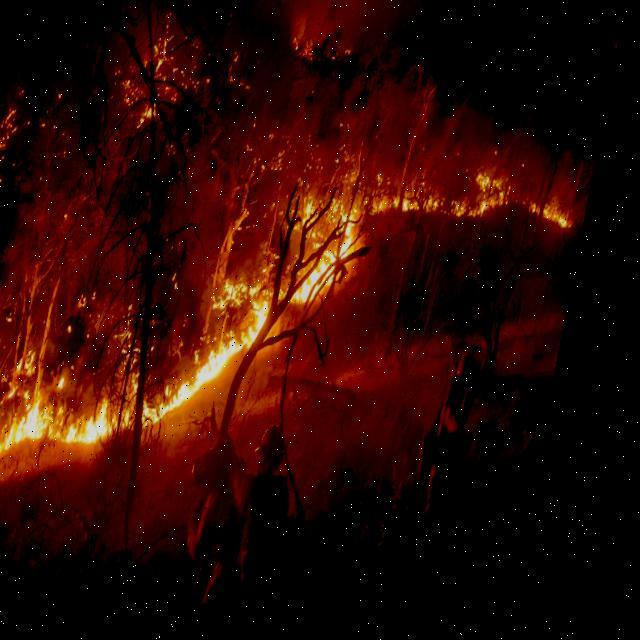Fire: (0, 202, 373, 474)
